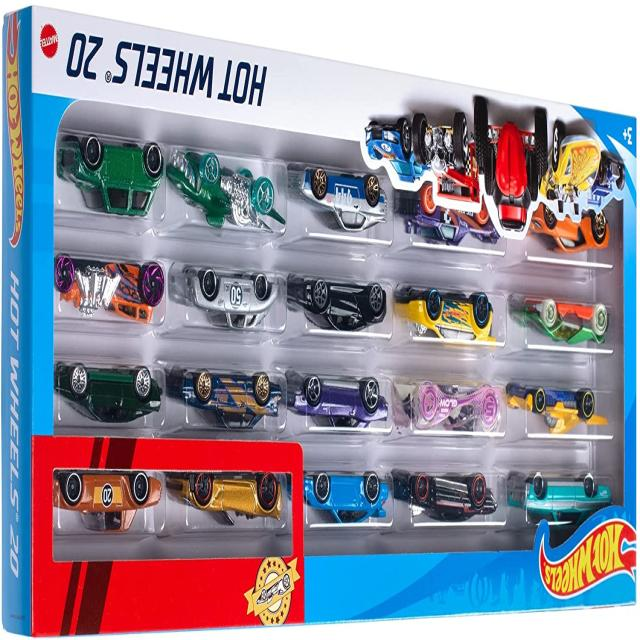Car: (57, 135, 164, 218), (53, 470, 162, 534), (54, 362, 162, 426), (165, 472, 282, 528), (294, 167, 388, 234), (183, 267, 280, 331), (180, 370, 282, 430), (394, 287, 496, 345), (507, 472, 612, 528), (287, 277, 387, 333), (289, 376, 389, 430), (506, 384, 608, 436), (510, 298, 610, 346), (303, 472, 389, 524), (528, 203, 610, 254)
